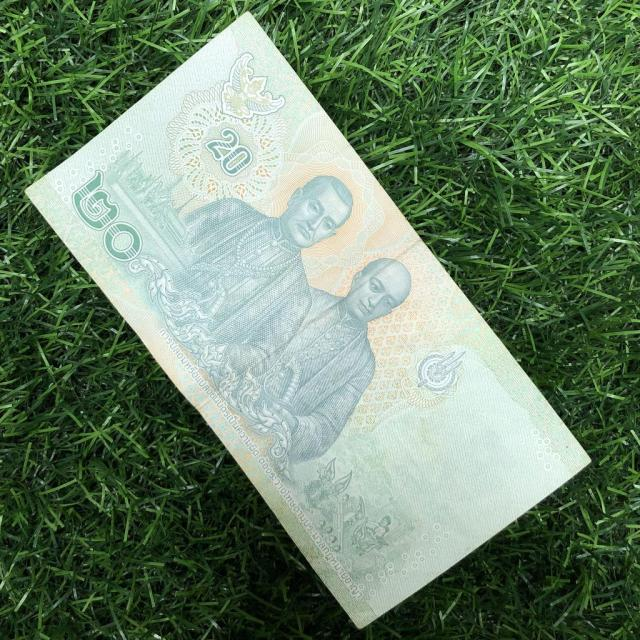THAI20: (28, 14, 589, 626)
